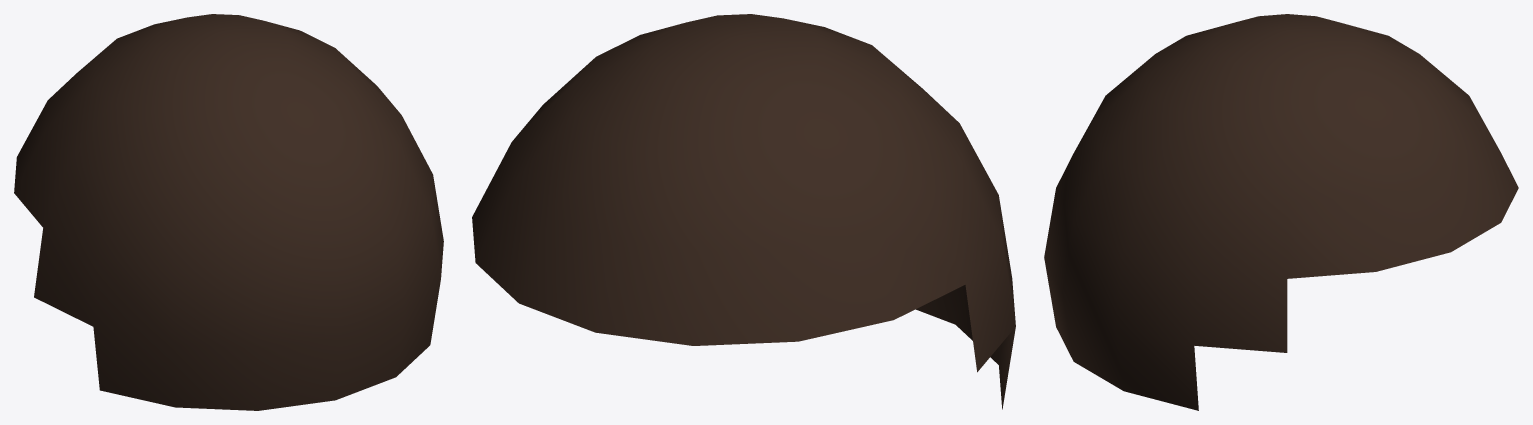
The model's file is hair_4.glb.
3 renders of one model, left to right at view 1: azimuth 30°, elevation 25°; view 2: azimuth 150°, elevation 25°; view 3: azimuth 270°, elevation 25°, orthographic. The views are drawn at different scales.
Parts seen in each view (by area): view 1: Head; view 2: Head; view 3: Head.
Part boxes in pixels (bbox=[...]): Head: bbox=[14, 14, 443, 410]; Head: bbox=[472, 14, 1015, 409]; Head: bbox=[1044, 14, 1518, 410].
Bounding box in the file's own units: 0.2176 × 0.1562 × 0.2283.
